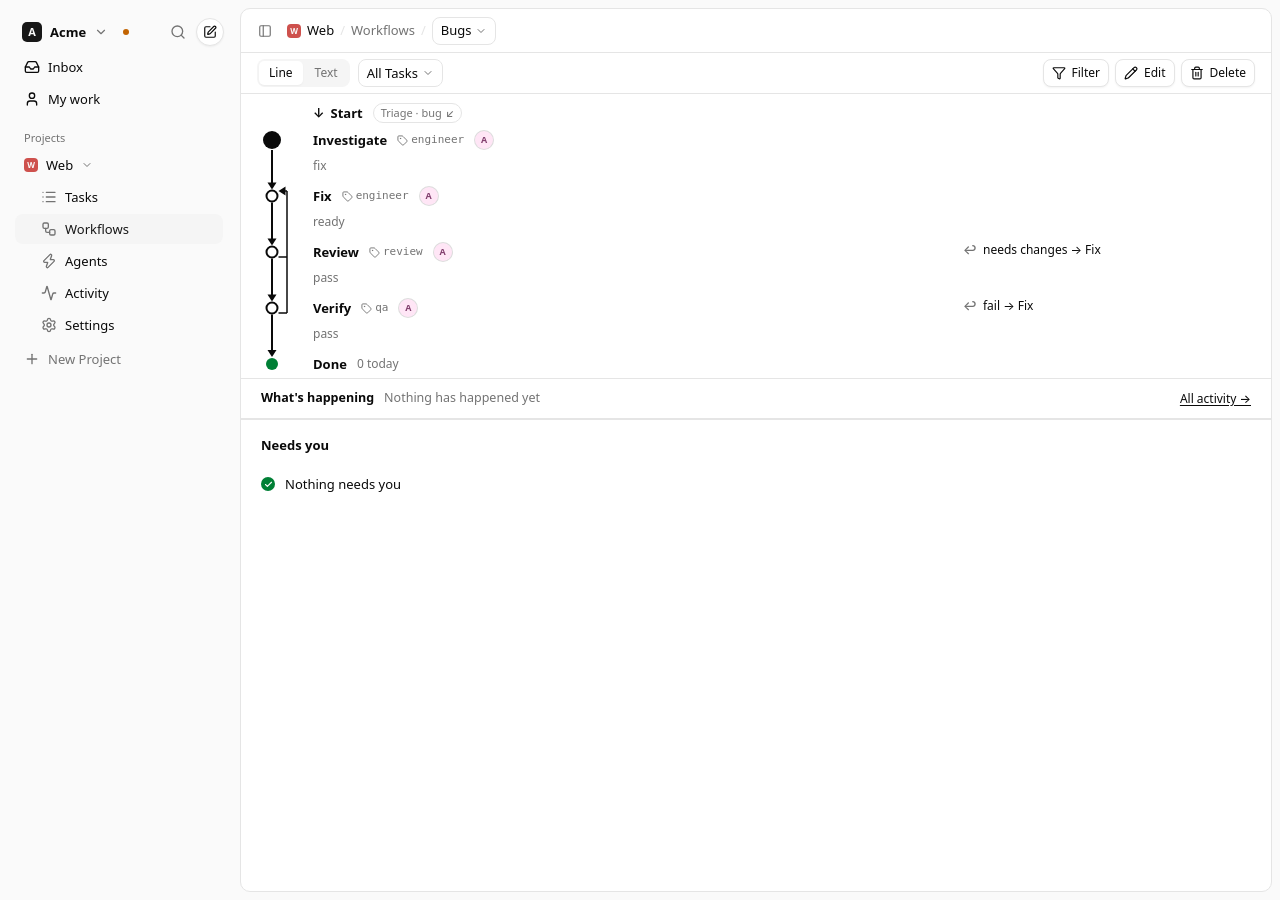
it: the Workflows page of a Project of several › goes to a sibling's page with the chip, remembered as the board's pick; the list never reads it
Click the button with aria-label "Workflow: Bugs".
click(464, 30)  # box x1=432 y1=16 x2=496 y2=44
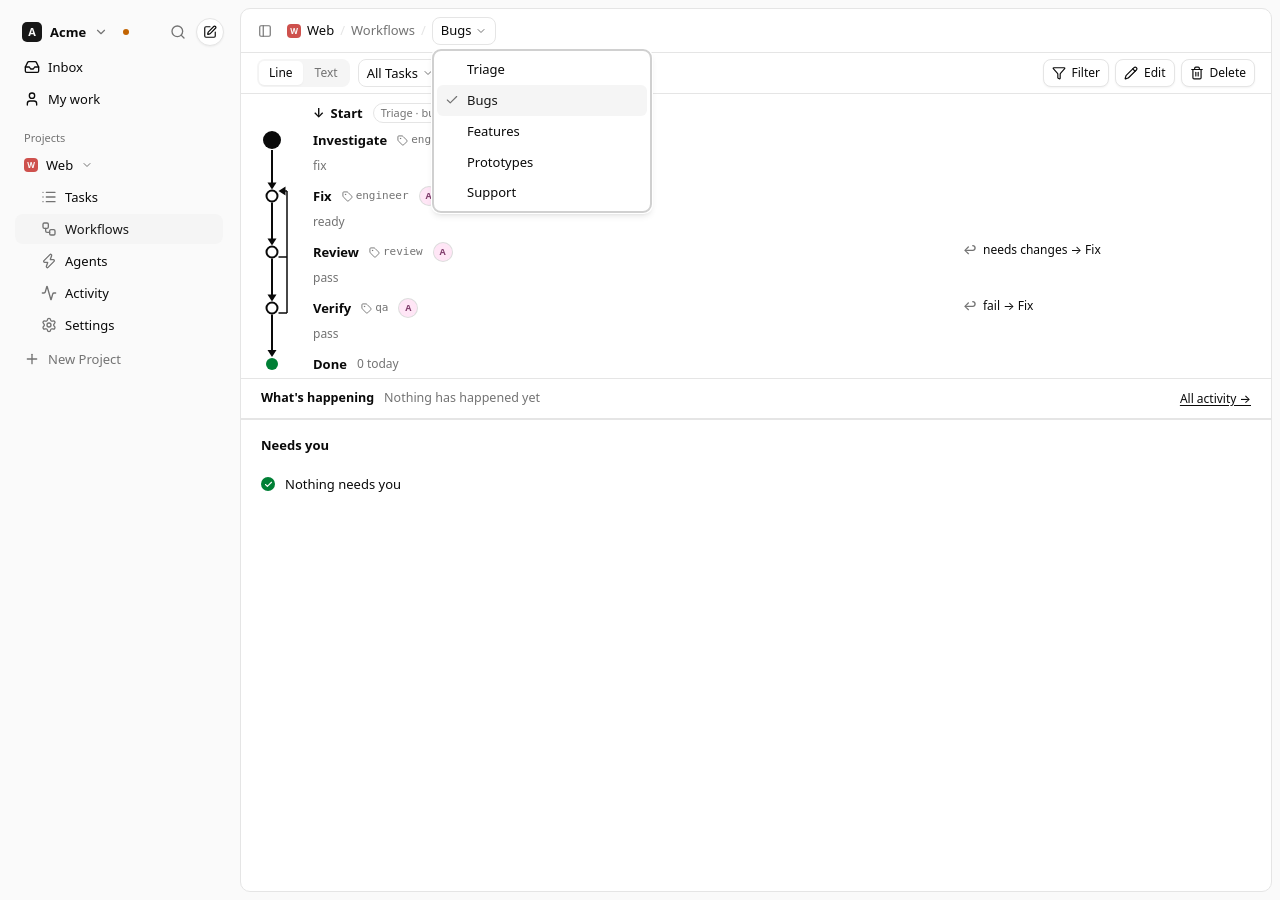
Click the option "Support".
click(492, 192)  # box x1=467 y1=183 x2=516 y2=201
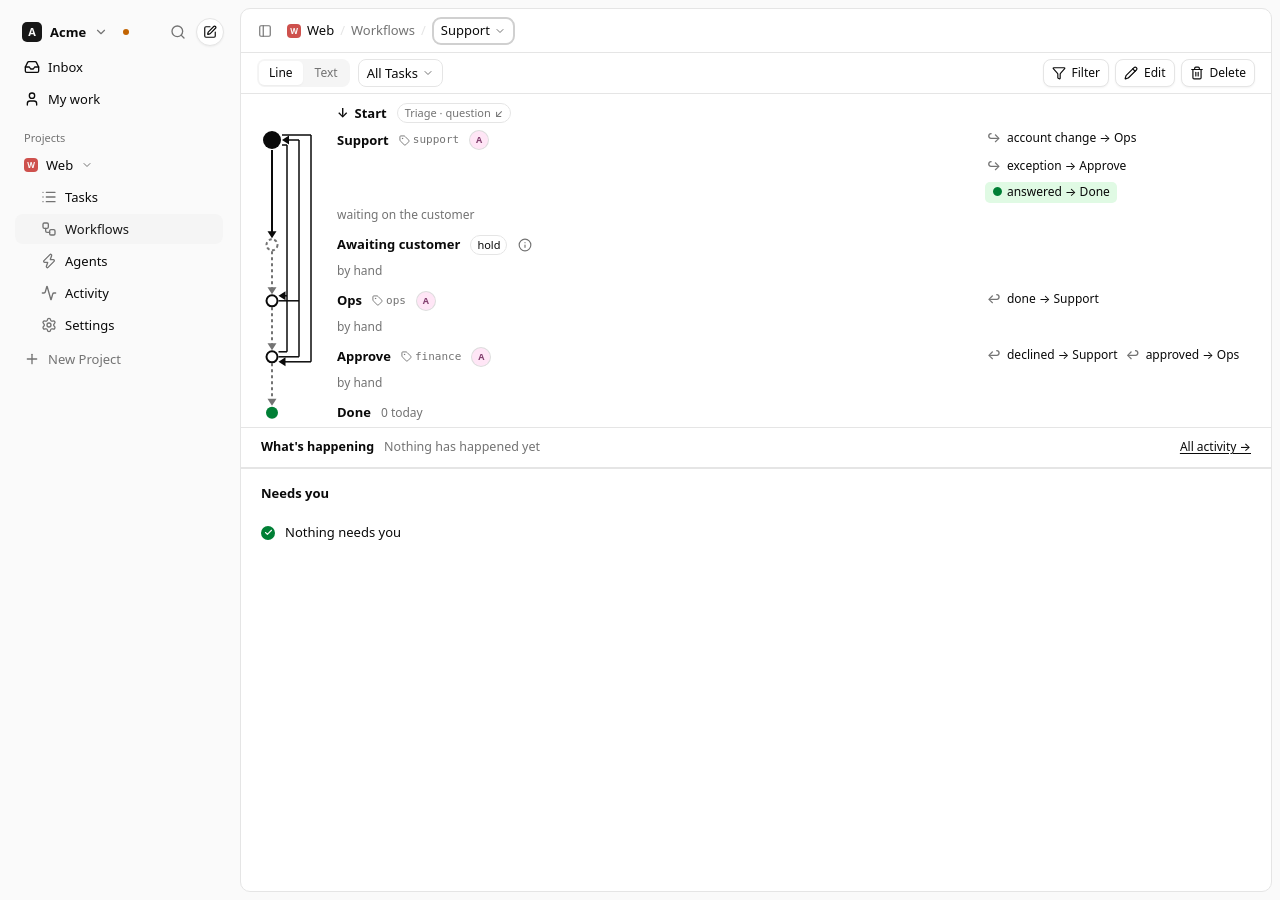
Expected: the button with aria-label "Workflow: Support" is shown, x1=432 y1=16 x2=515 y2=44
Click the 1st link "Workflows".
click(383, 30)  # box x1=351 y1=21 x2=415 y2=40
(page scrolled)
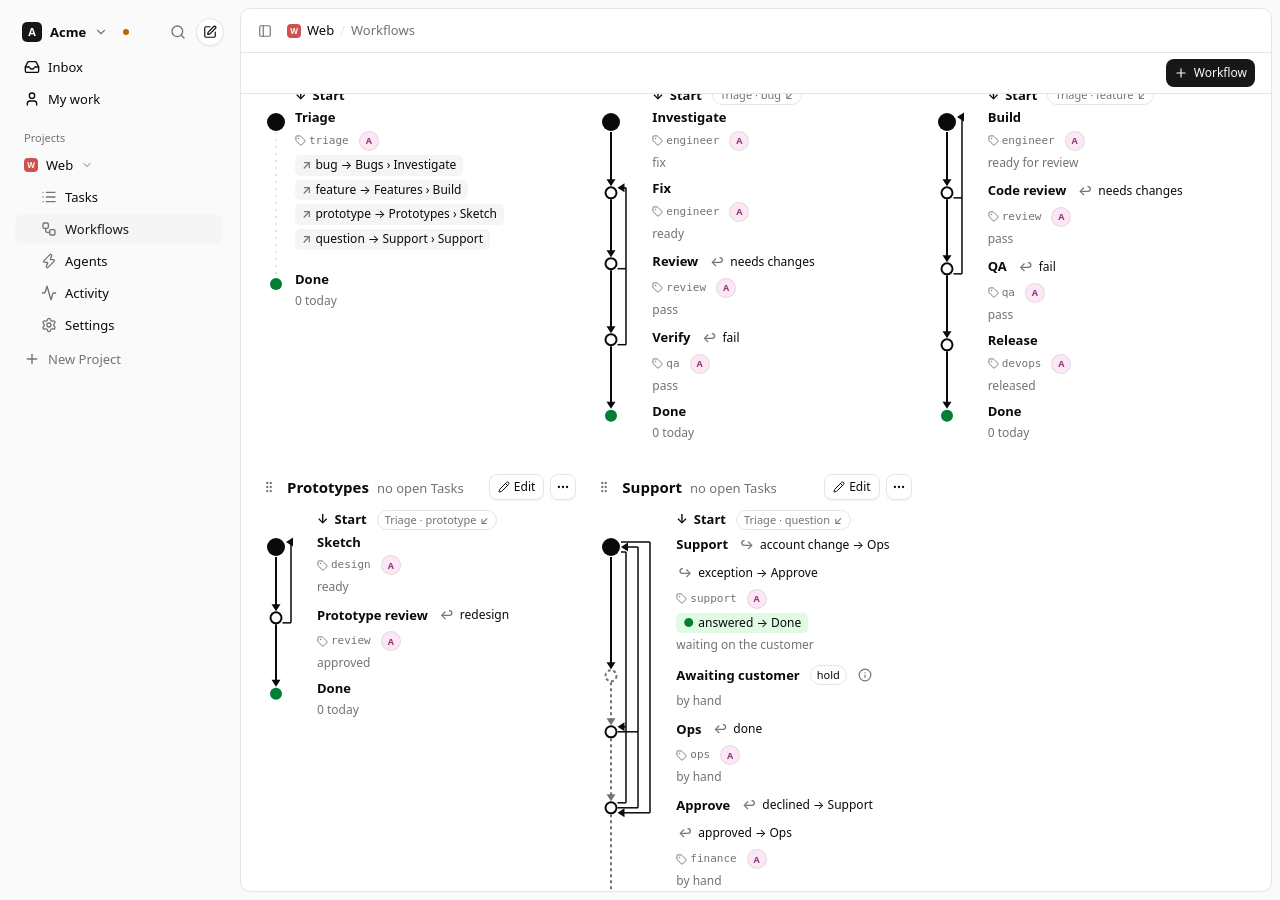
Expected: the list named "Workflows" is shown
